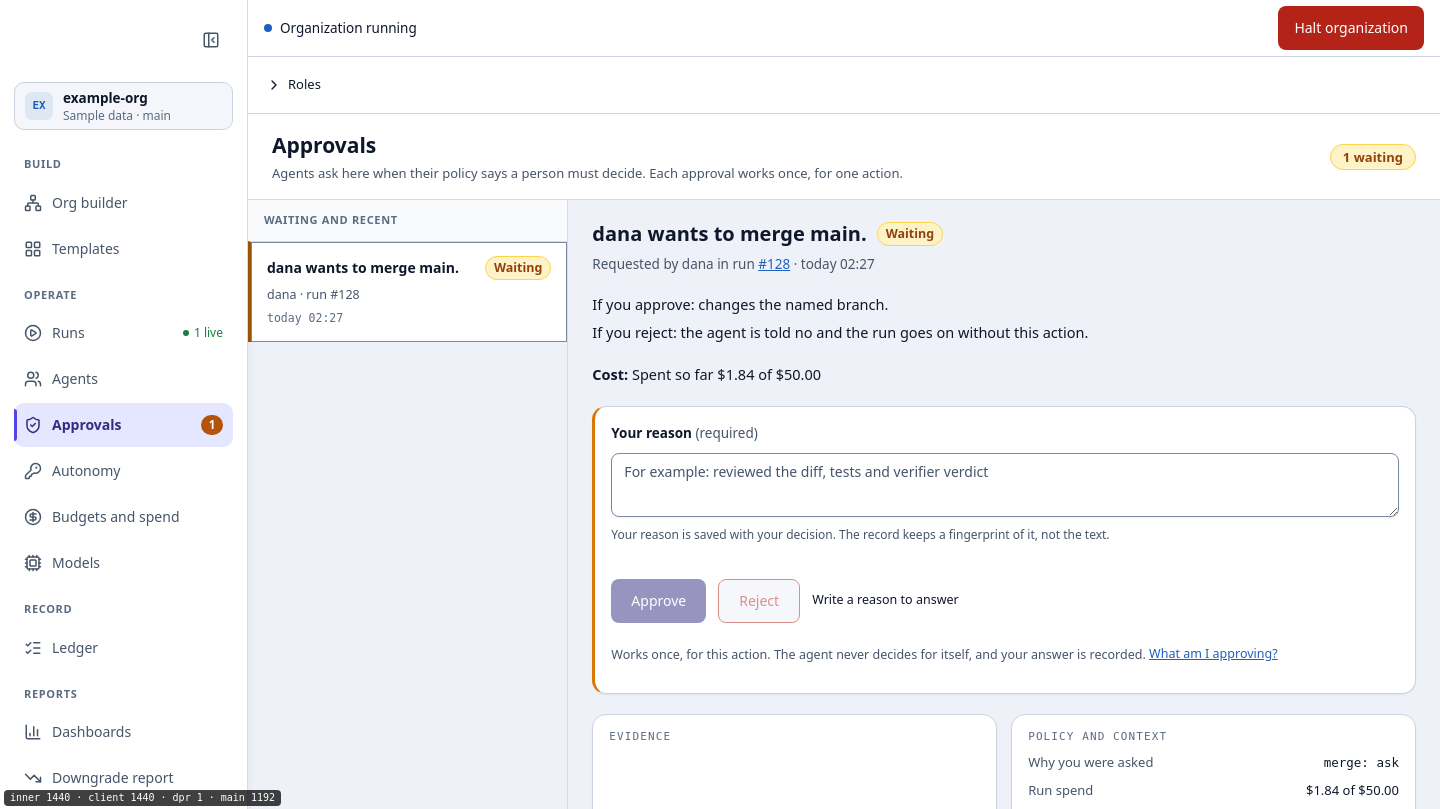
Test case: solo approve: the confirm dialog (SA-17) › Cancel closes the dialog and sends nothing
Type "read the diff" into the text box labelled "Your reason (required)" at (1005, 485), box [611,453,1399,517]
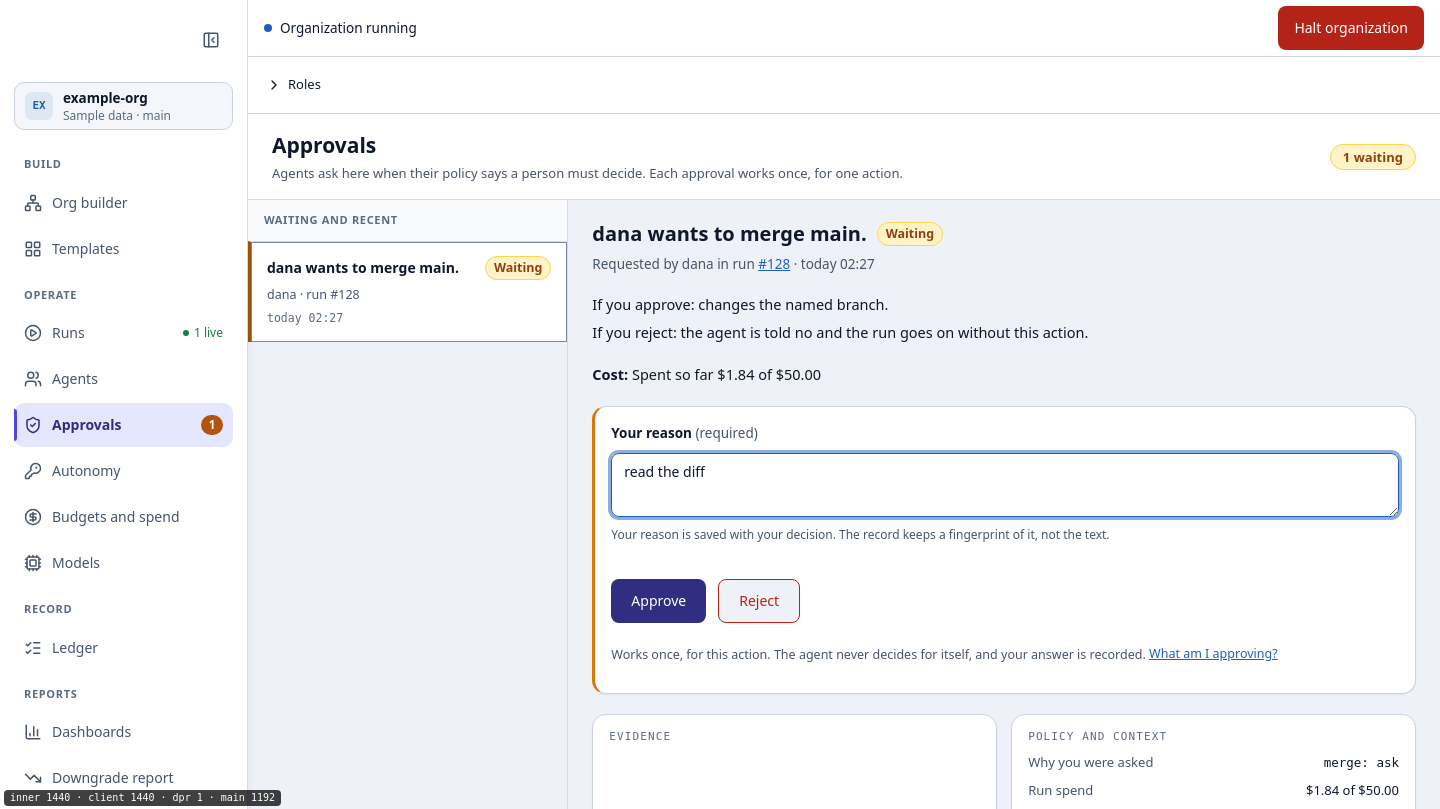
Click the button "Approve" at (659, 601), box [611,579,706,623]
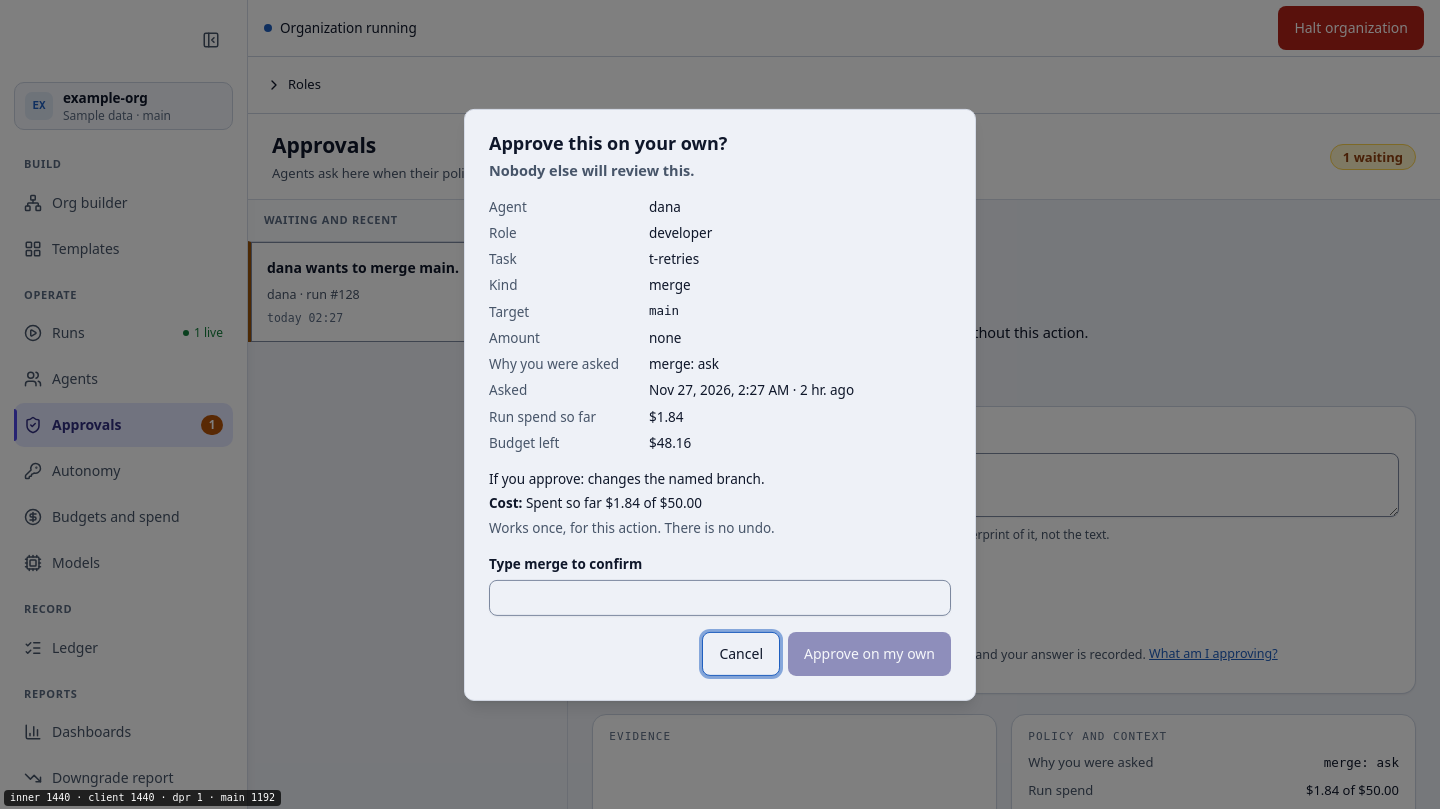
Click the button "Cancel" at (741, 654), box [702,632,780,676]
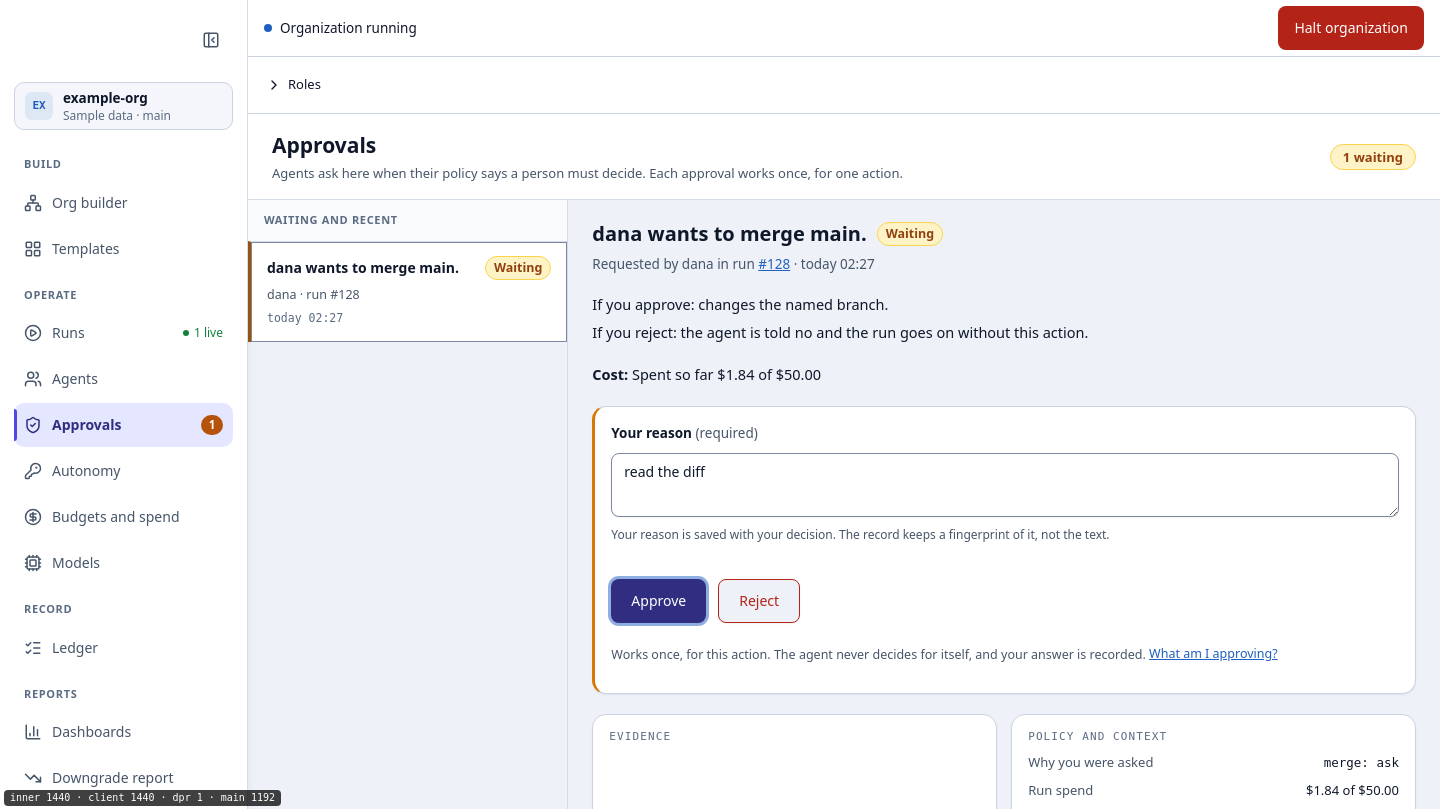
Result: the dialog is gone
